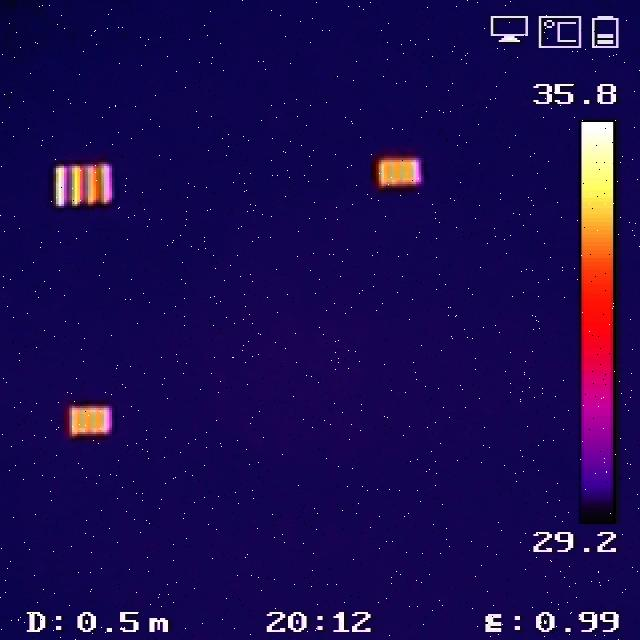Distinguishable 4-bar target: (49, 165, 116, 207)
threshold 4-bar target: (67, 403, 116, 436), (374, 157, 422, 188)
